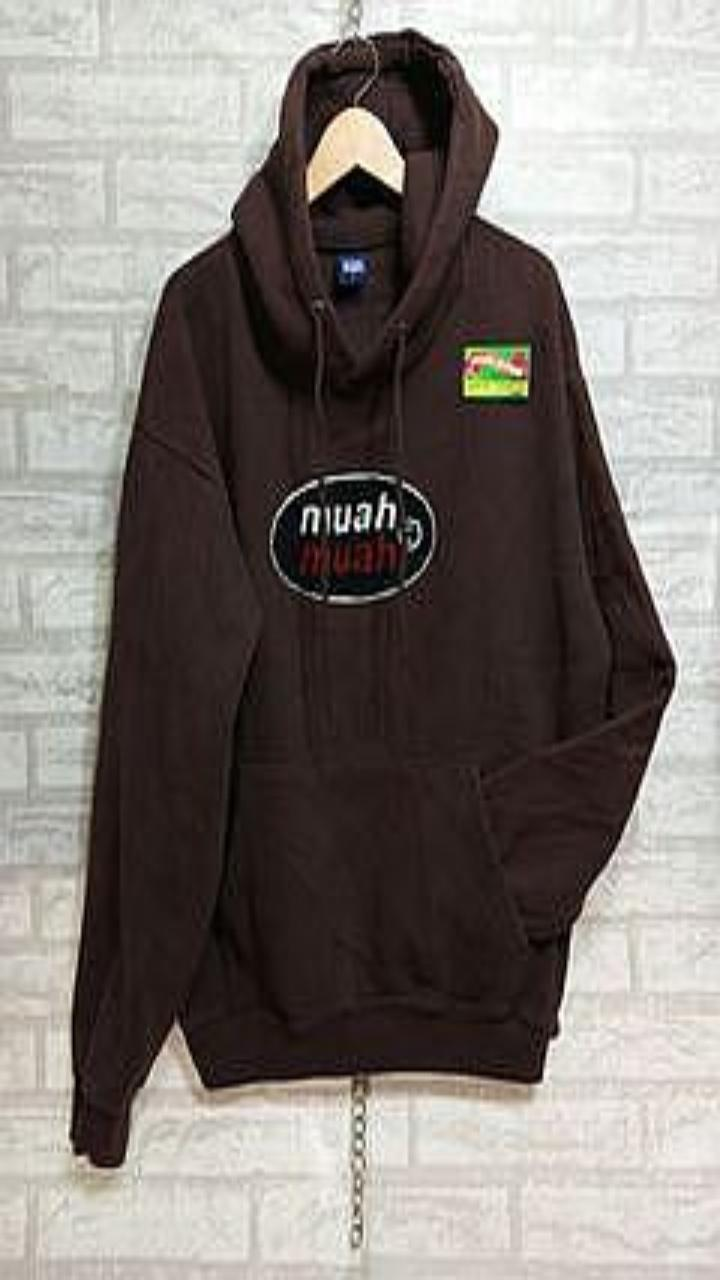Hoodie: (71, 28, 675, 1164)
